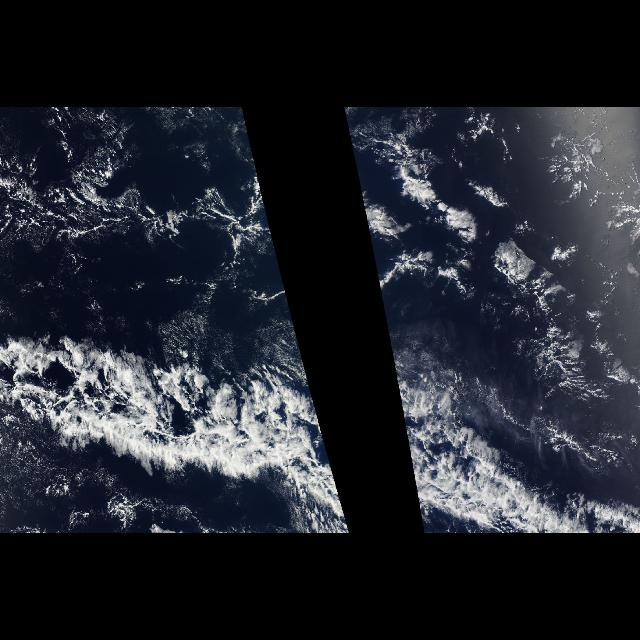Fish: (2, 245, 350, 533), (371, 245, 631, 533)
Flower: (352, 144, 628, 402)
